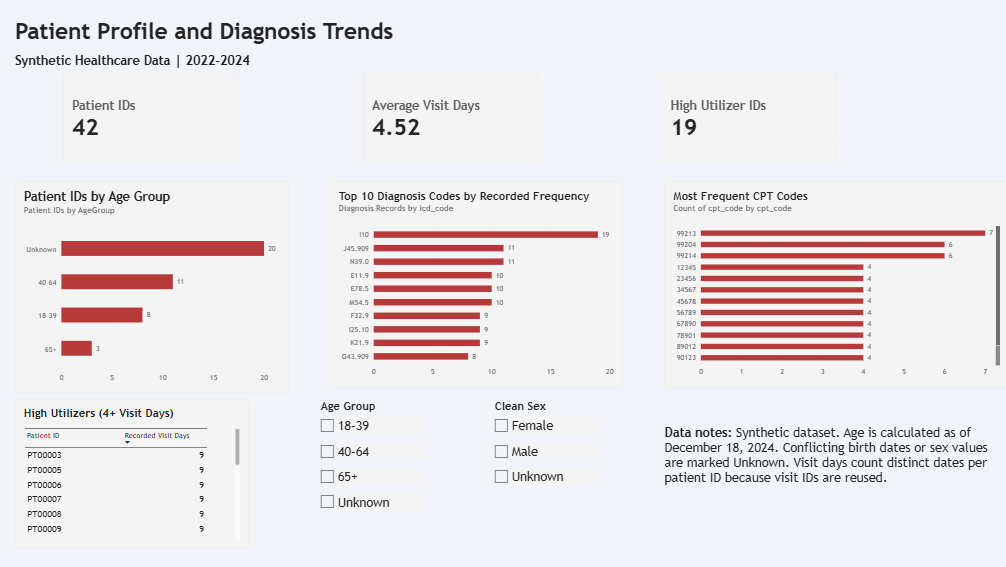

What the dashboard file says about the page in this screenshot:
{"tool":"powerbi","page":{"name":"Page 1","canvas":[1920,1080],"ordinal":0},"visuals":[{"type":"cardVisual","fields":{"Data":["Patients.Patient IDs"]},"box":[130.8,143.6,331.7,172],"z":0},{"type":"cardVisual","fields":{"Data":["Patients.Average Visit Days"]},"box":[696,143.6,332,172],"z":1000},{"type":"cardVisual","fields":{"Data":["Patients.High Utilizer IDs"]},"box":[1261.5,143.6,332,172],"z":2000},{"type":"clusteredBarChart","title":"Patient IDs by Age Group","fields":{"Category":["Patients.AgeGroup"],"Y":["Patients.Patient IDs"]},"box":[38.5,348.7,517.9,400],"z":3000},{"type":"clusteredBarChart","title":"Top 10 Diagnosis Codes by Recorded Frequency","fields":{"Category":["patient_visits.icd_code"],"Y":["patient_visits.Diagnosis Records"]},"box":[634.6,348.7,553.8,389.7],"z":4000},{"type":"clusteredBarChart","title":"Most Frequent CPT Codes","fields":{"Category":["patient_visits.cpt_code"],"Y":["CountNonNull(patient_visits.cpt_code)"]},"box":[1266.7,348.7,651.3,389.7],"z":6000},{"type":"tableEx","title":"High Utilizers (4+ Visit Days)","fields":{"Values":["Patients.patient_id","Patients.VisitDays"]},"box":[39.7,758.8,442.2,283.5],"z":7000},{"type":"slicer","fields":{"Values":["Patients.AgeGroup"]},"box":[608.5,758.8,202,282.4],"z":8000},{"type":"slicer","fields":{"Values":["Patients.CleanSex"]},"box":[937.1,758.8,202.6,282.1],"z":9000},{"type":"textbox","box":[1266.3,758.8,651.4,282],"z":10000},{"type":"textbox","box":[39.7,39.7,739.8,153.1],"z":10001}]}

Visuals, with their boxes in screenshot pixels (x1, y1, x2, y2), scaled from the page's 1920x1080 canvas onto the 1006x567 screenshot:
cardVisual - Patients.Patient IDs: bbox(69, 75, 242, 166)
cardVisual - Patients.Average Visit Days: bbox(365, 75, 539, 166)
cardVisual - Patients.High Utilizer IDs: bbox(661, 75, 835, 166)
"Patient IDs by Age Group" clusteredBarChart: bbox(20, 183, 292, 393)
"Top 10 Diagnosis Codes by Recorded Frequency" clusteredBarChart: bbox(333, 183, 623, 388)
"Most Frequent CPT Codes" clusteredBarChart: bbox(664, 183, 1005, 388)
"High Utilizers (4+ Visit Days)" tableEx: bbox(21, 398, 252, 547)
slicer - Patients.AgeGroup: bbox(319, 398, 425, 547)
slicer - Patients.CleanSex: bbox(491, 398, 597, 546)
textbox: bbox(663, 398, 1005, 546)
textbox: bbox(21, 21, 408, 101)
